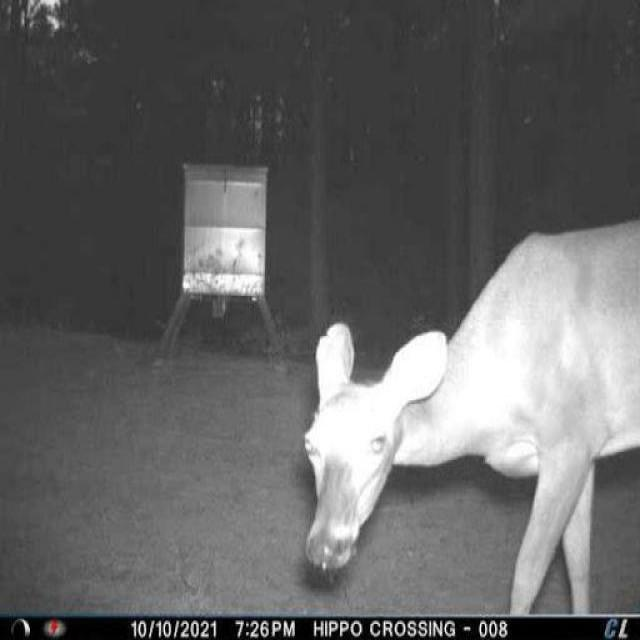deer: (296, 207, 640, 616)
